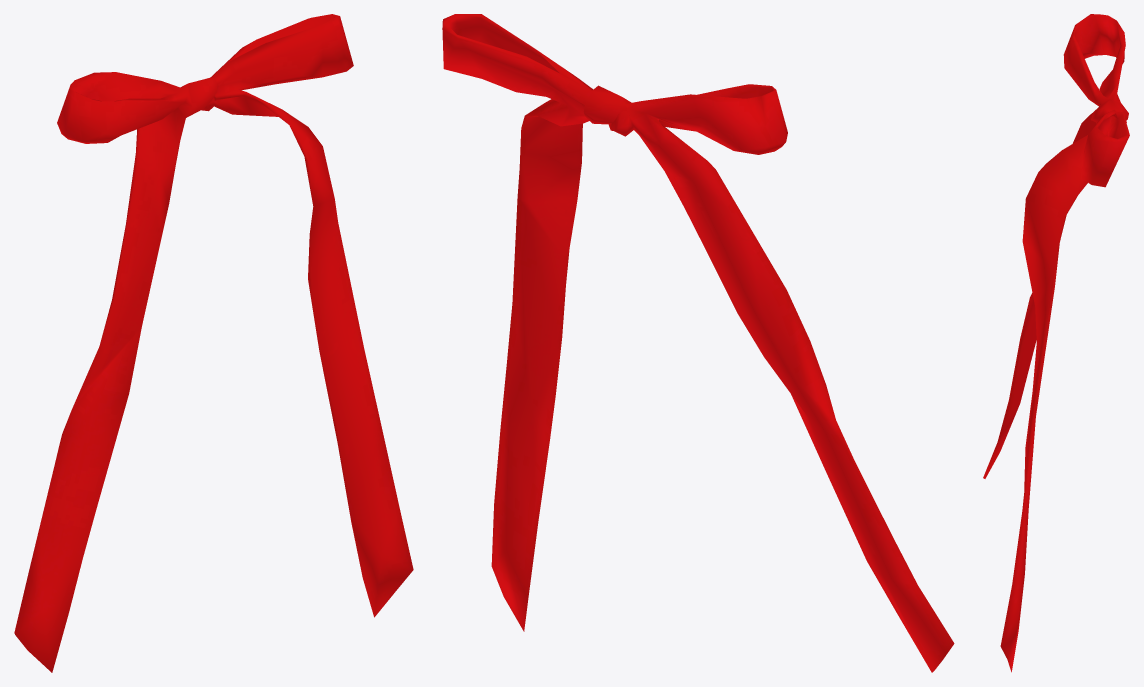
The model's file is Red_Ribbon.glb.
3 renders of one model, left to right at view 1: azimuth 30°, elevation 25°; view 2: azimuth 150°, elevation 25°; view 3: azimuth 270°, elevation 25°, orthographic. The views are drawn at different scales.
Visible parts, largest first — view 1: Mesh1.0; view 2: Mesh1.0; view 3: Mesh1.0.
Boxes of the visible parts, x1,y1,x2,y2 form: Mesh1.0: [14, 14, 413, 672]; Mesh1.0: [442, 14, 954, 672]; Mesh1.0: [983, 14, 1129, 672].
Size of the model in its own units: 0.1044 by 0.1414 by 0.0347.
1 material, 1 textured.
